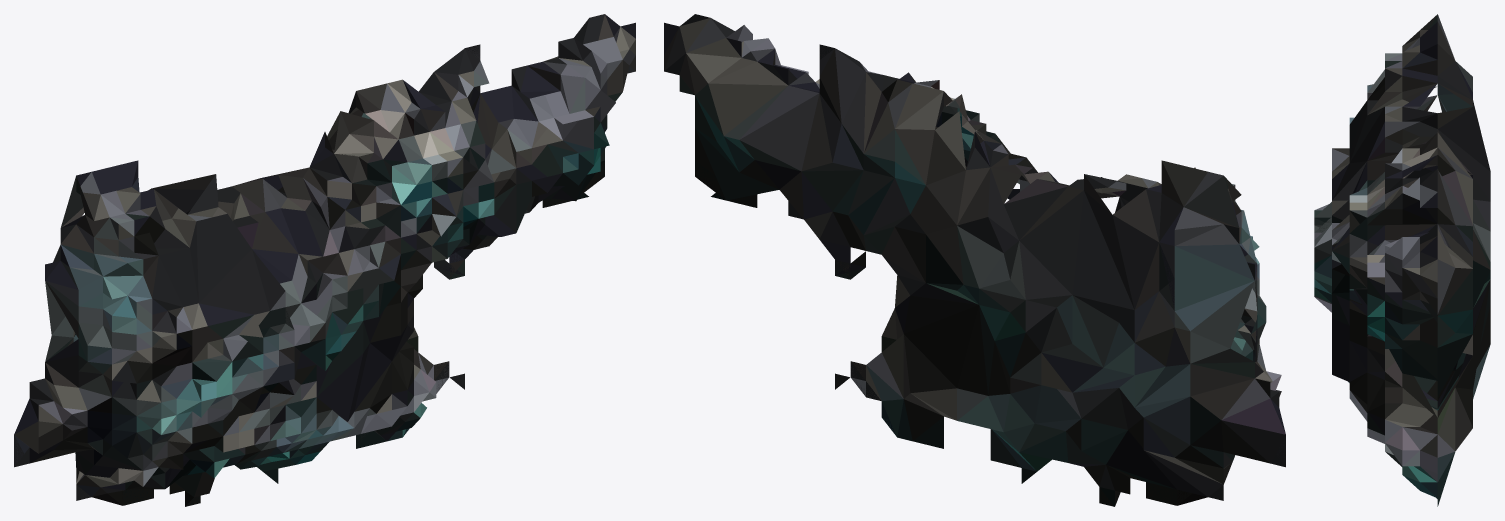
File: B09_6_runic_crossbow.obj
3 renders of one model, left to right at view 1: azimuth 30°, elevation 25°; view 2: azimuth 150°, elevation 25°; view 3: azimuth 270°, elevation 25°, orthographic.
Parts seen in each view (by area): view 1: B09_6_runic_crossbow; view 2: B09_6_runic_crossbow; view 3: B09_6_runic_crossbow.
Part boxes in pixels (bbox=[...]): B09_6_runic_crossbow: bbox=[14, 14, 635, 506]; B09_6_runic_crossbow: bbox=[664, 14, 1285, 506]; B09_6_runic_crossbow: bbox=[1314, 14, 1490, 506].
Bounding box in the file's own units: 40 × 24 × 10.
